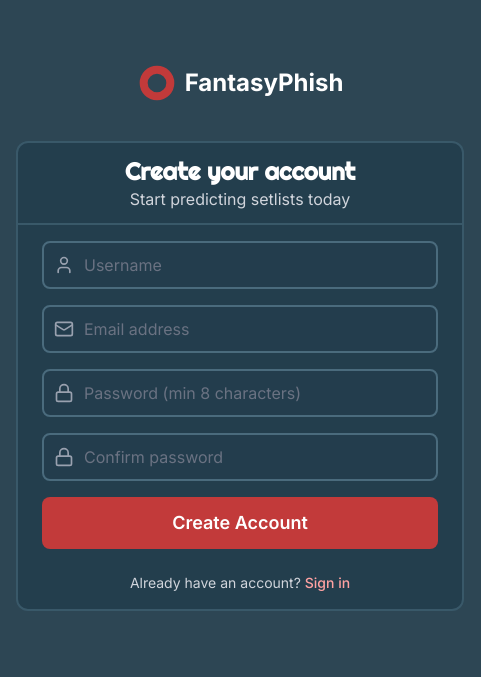
Test: RegisterClient › validates {"username":"bad name!"}
Type "bad name!" into the field labelled "Username" at point(240, 265), box [42,241,438,289]
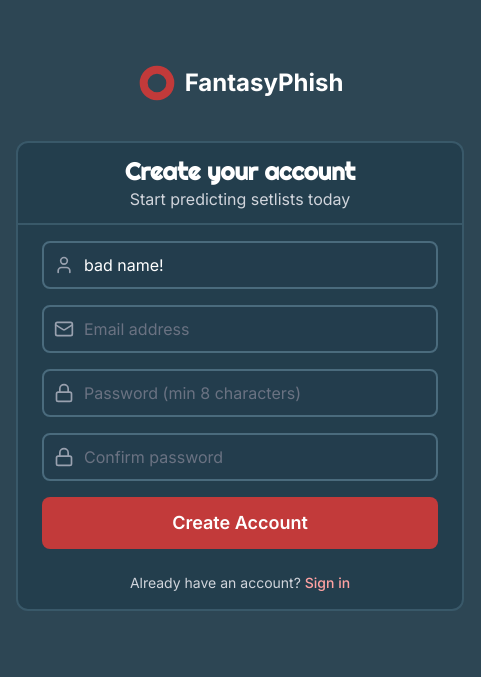
Type "a@b.com" into the field labelled "Email address" at point(240, 329), box [42,305,438,353]
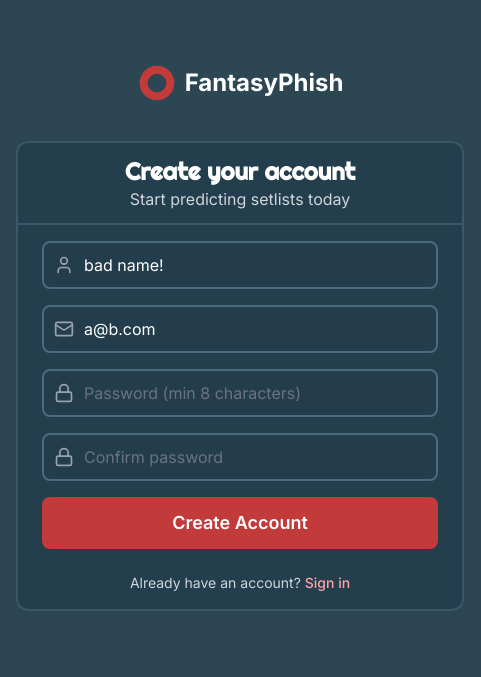
Type "password1" into the password field named "Password (minimum 8 characters)" at point(240, 393), box [42,369,438,417]
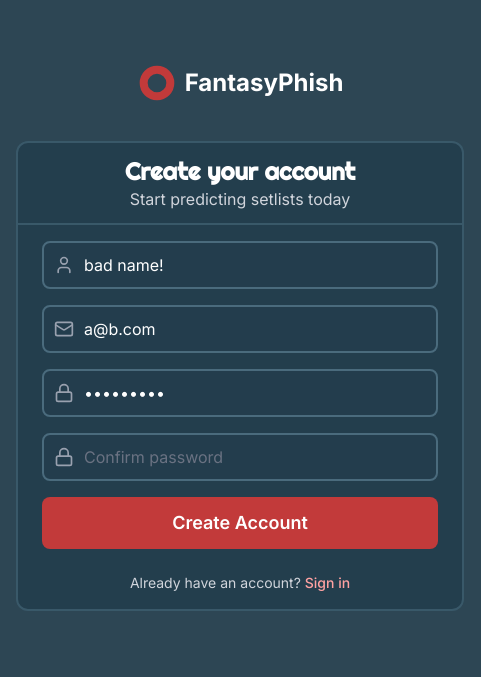
Type "password1" into the password field labelled "Confirm password" at point(240, 457), box [42,433,438,481]
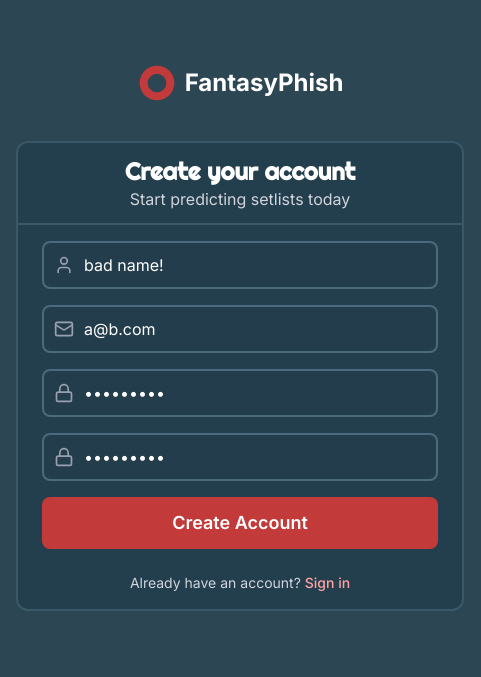
Click the button "Create Account" at point(240, 523), box [42,497,438,549]
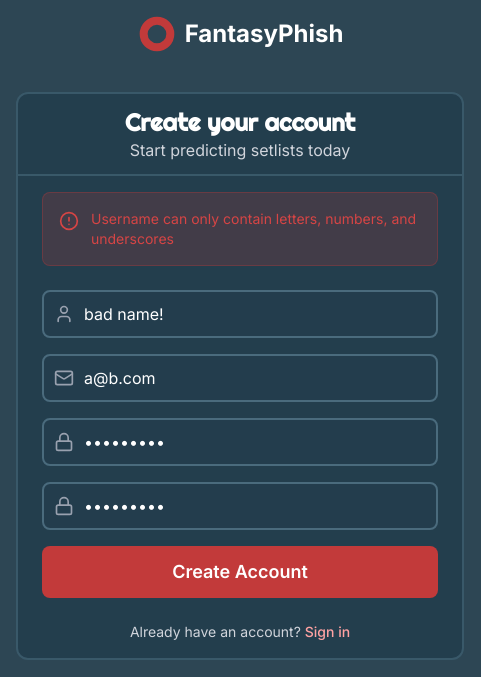
Now the message reads "Username can only contain letters, numbers, and underscores", box [91,210,416,247]
